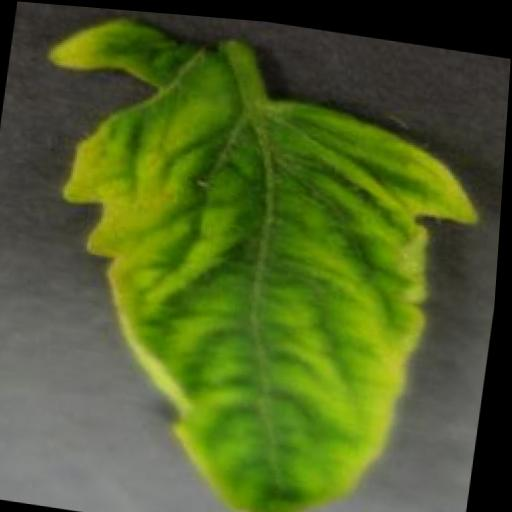Yellow Leaf Curl Virus: (0, 6, 500, 512)
